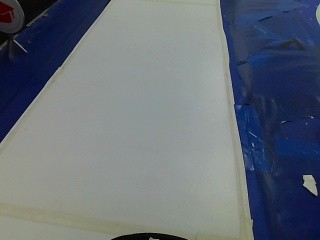school: (0, 0, 22, 35)
